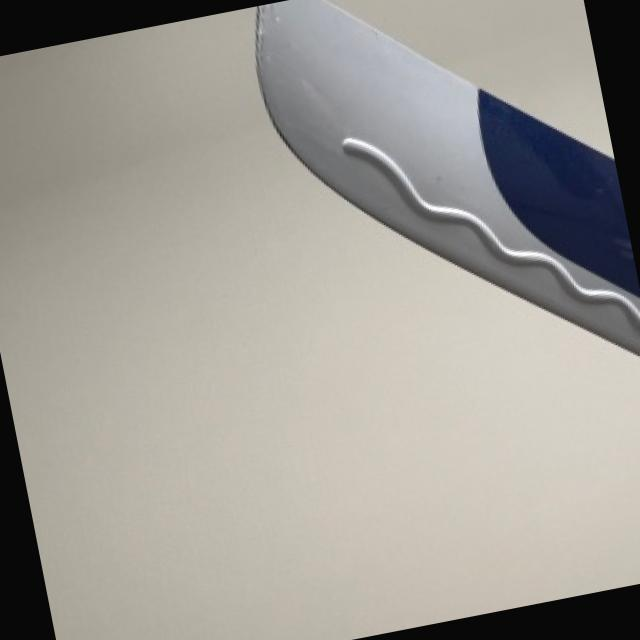healthy: (253, 0, 640, 354)
